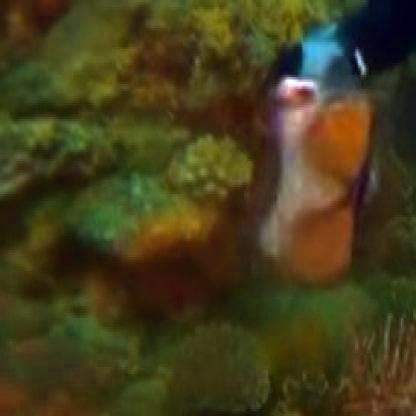plastic: (257, 44, 378, 290)
